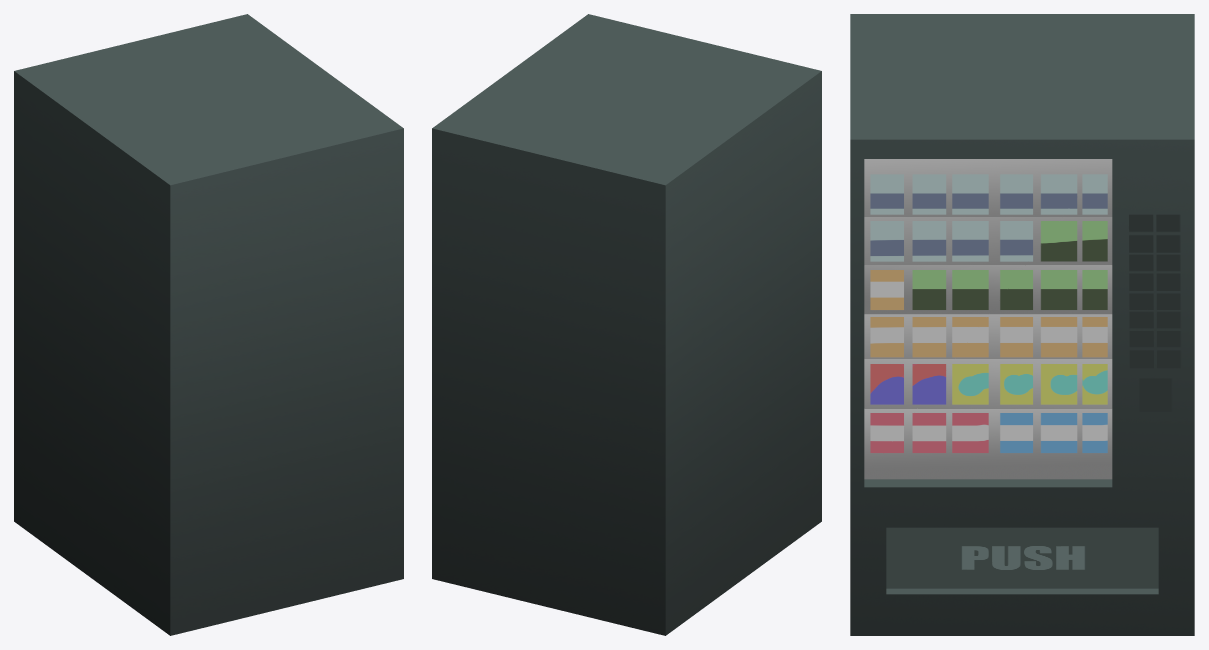
The model's file is Vending Machine.fbx.
3 views of the same model, side by side, from view 1: azimuth 30°, elevation 25°; view 2: azimuth 150°, elevation 25°; view 3: azimuth 270°, elevation 25° (orthographic). The views are drawn at different scales.
Parts seen in each view (by area): view 1: pCube37; view 2: pCube37; view 3: pCube37.
Part boxes in pixels (x1,y1,x2,y2): pCube37: (14, 14, 403, 635); pCube37: (432, 14, 821, 635); pCube37: (850, 14, 1194, 635).
Bounding box in the file's own units: 5.86 × 10.8 × 6.79.
Materials: 1 (1 with a texture image).
